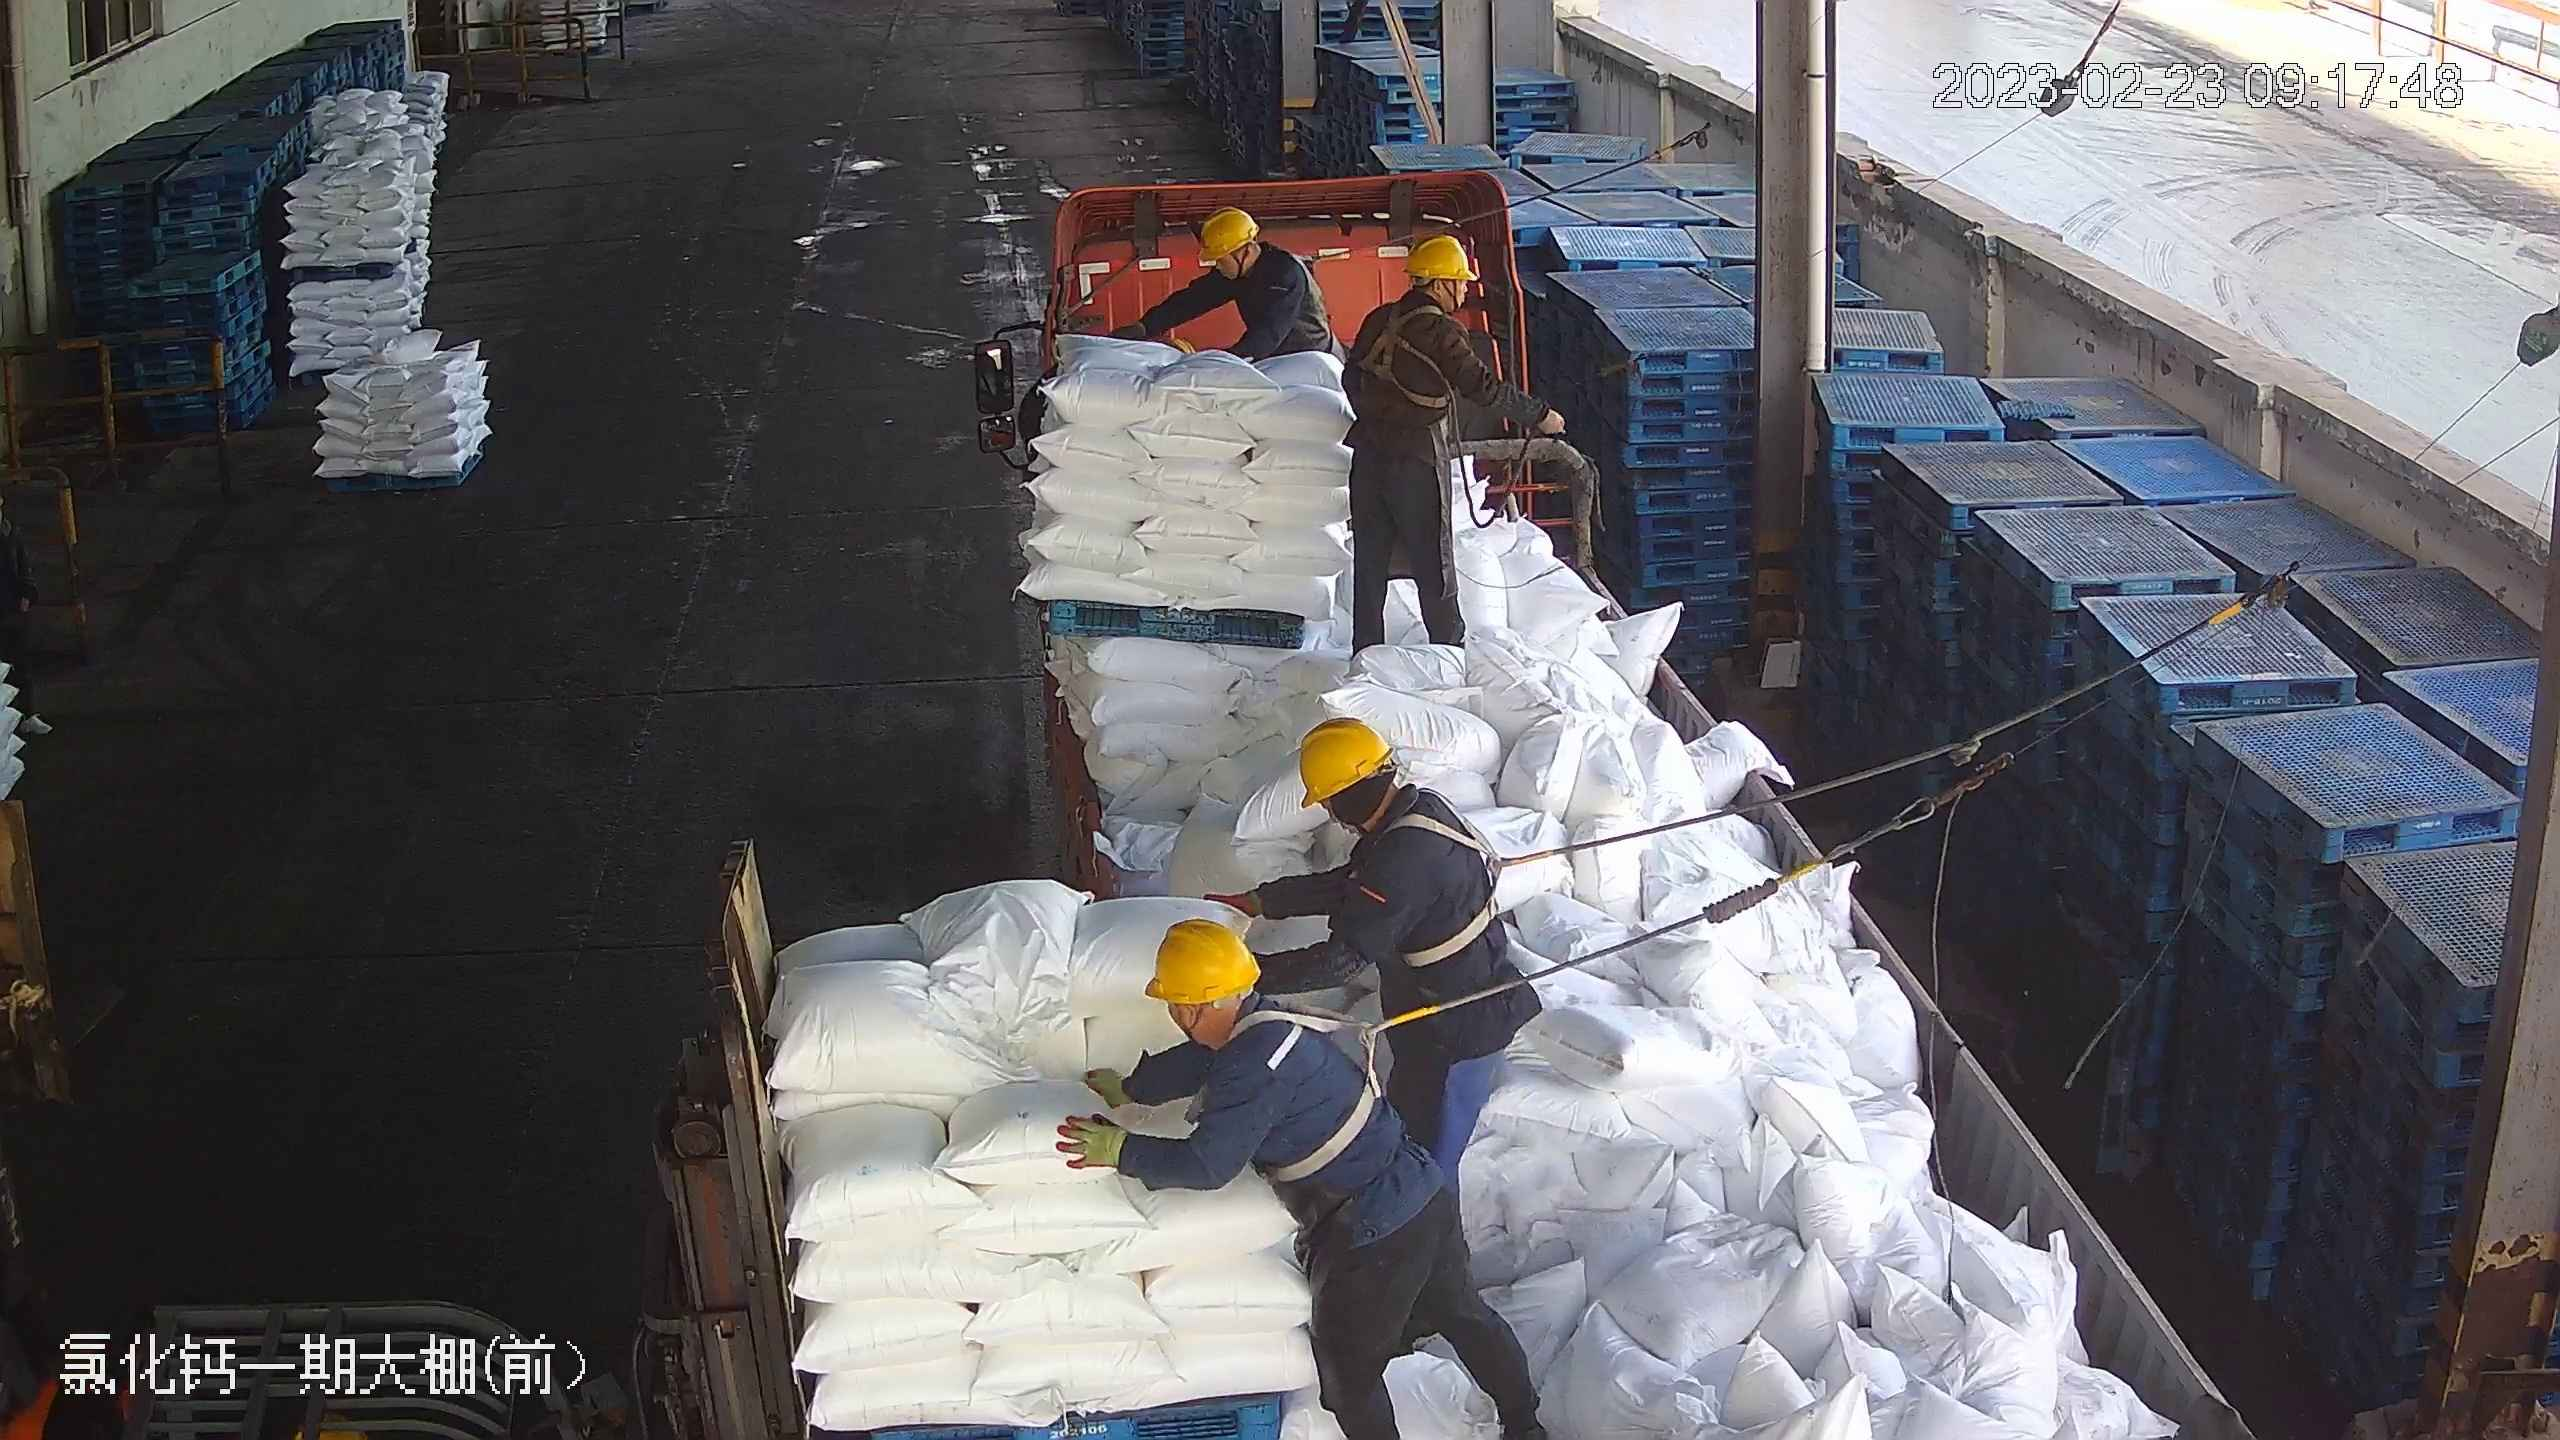belt: (1244, 1009, 1425, 1180), (1380, 796, 1545, 961), (1359, 308, 1455, 406), (1282, 243, 1342, 280)
head: (1140, 918, 1320, 1113), (1284, 718, 1472, 896), (1369, 233, 1485, 376), (1195, 206, 1303, 313)
helmet: (1142, 916, 1263, 999), (1291, 715, 1392, 802), (1405, 231, 1477, 281), (1193, 206, 1260, 260)
people: (1097, 923, 1545, 1440), (1234, 713, 1537, 1261), (1346, 232, 1550, 662)
truck: (973, 177, 2266, 1430)
